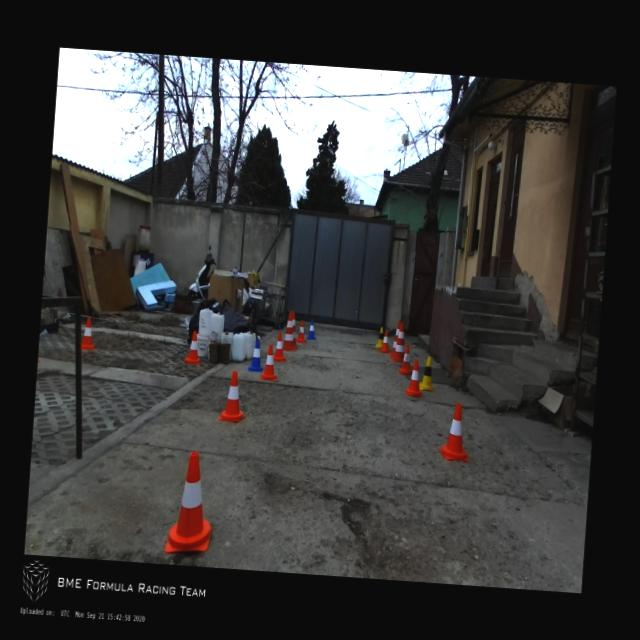blue_cone: (247, 336, 266, 373), (306, 318, 316, 340)
large_orange_cone: (282, 310, 300, 352), (391, 323, 406, 362), (289, 311, 302, 348), (389, 318, 401, 356)
orange_cone: (164, 450, 217, 554), (438, 401, 472, 463), (216, 369, 248, 423), (259, 342, 279, 382), (404, 358, 424, 396), (184, 329, 202, 365), (80, 316, 96, 350), (398, 344, 414, 375), (272, 331, 286, 362), (378, 328, 392, 354), (295, 319, 308, 343)
yellow_cone: (418, 354, 438, 392), (374, 326, 384, 348)
